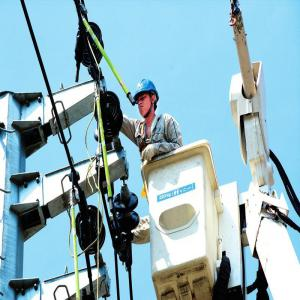blue: (133, 78, 161, 121)
